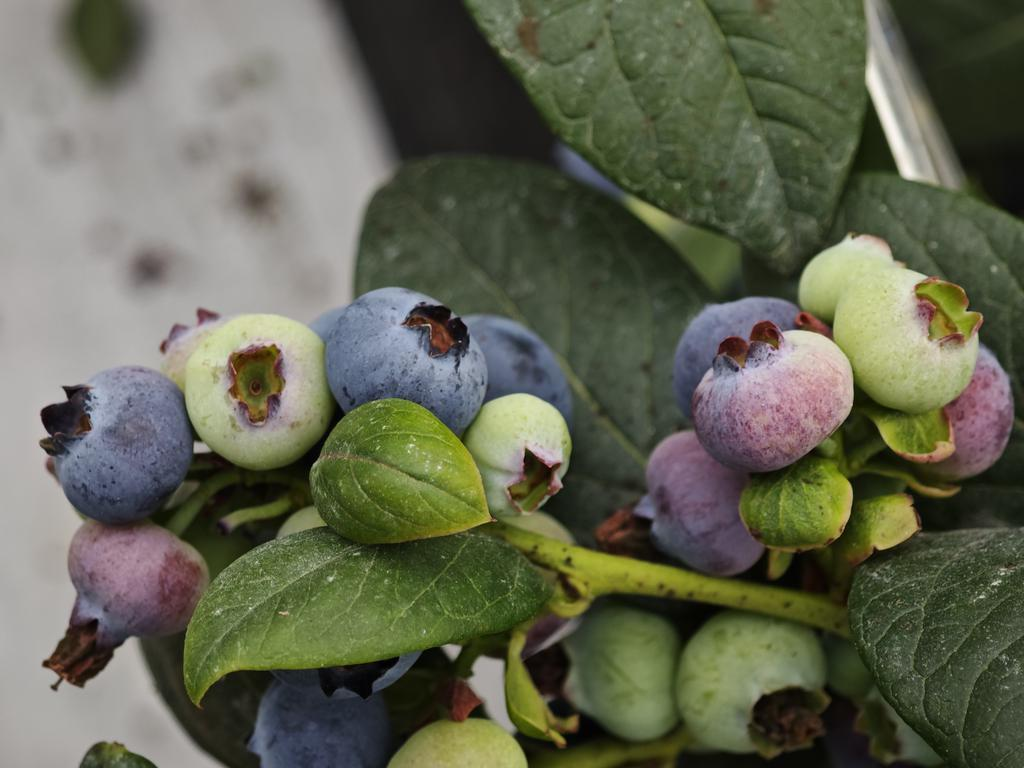RipeBlueBerry: (330, 283, 491, 436), (45, 363, 195, 527)
Semi-RipeBlueBerry: (690, 324, 858, 472), (65, 522, 213, 651)
UnripeBlueBerry: (185, 314, 331, 473), (833, 264, 982, 414)
